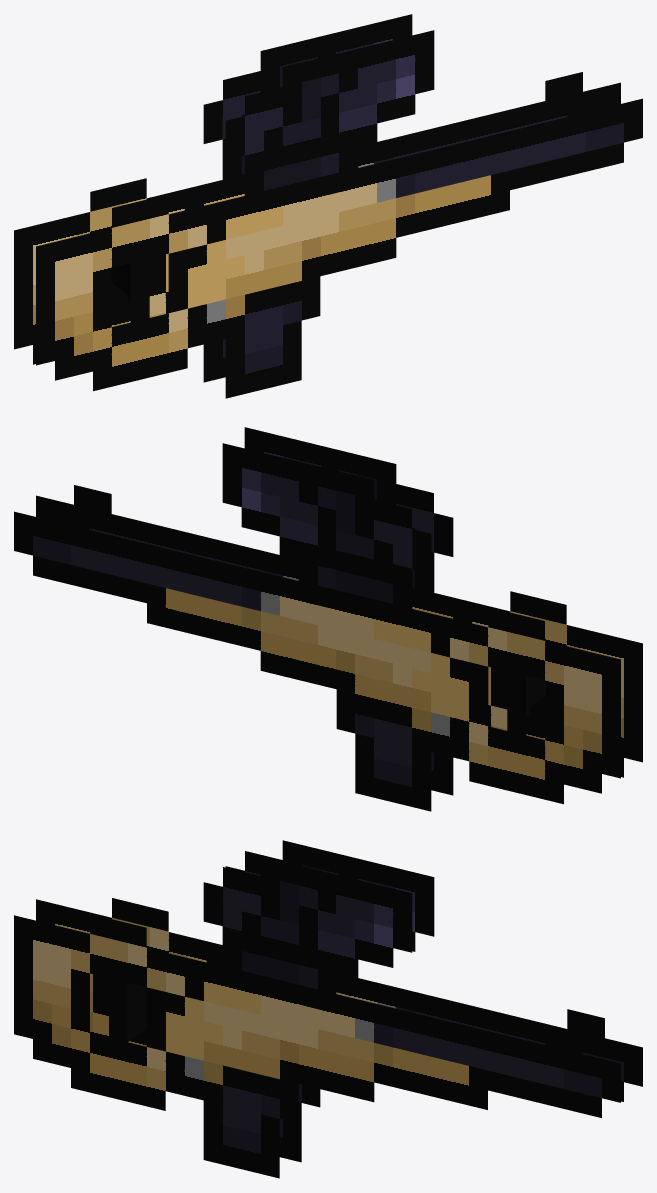
The model's file is sniper.fbx.
The picture shows the model from 3 angles, top to bottom: view 1: azimuth 30°, elevation 25°; view 2: azimuth 150°, elevation 25°; view 3: azimuth 330°, elevation 25°; orthographic projection.
Visible parts, largest first — view 1: Sniper; view 2: Sniper; view 3: Sniper.
Boxes of the visible parts, left/top/right/bottom form: Sniper: left=14, top=14, right=642, bottom=398; Sniper: left=14, top=427, right=642, bottom=811; Sniper: left=14, top=840, right=642, bottom=1178.
Bounding box in the file's own units: 178 × 88.95 × 11.13.
